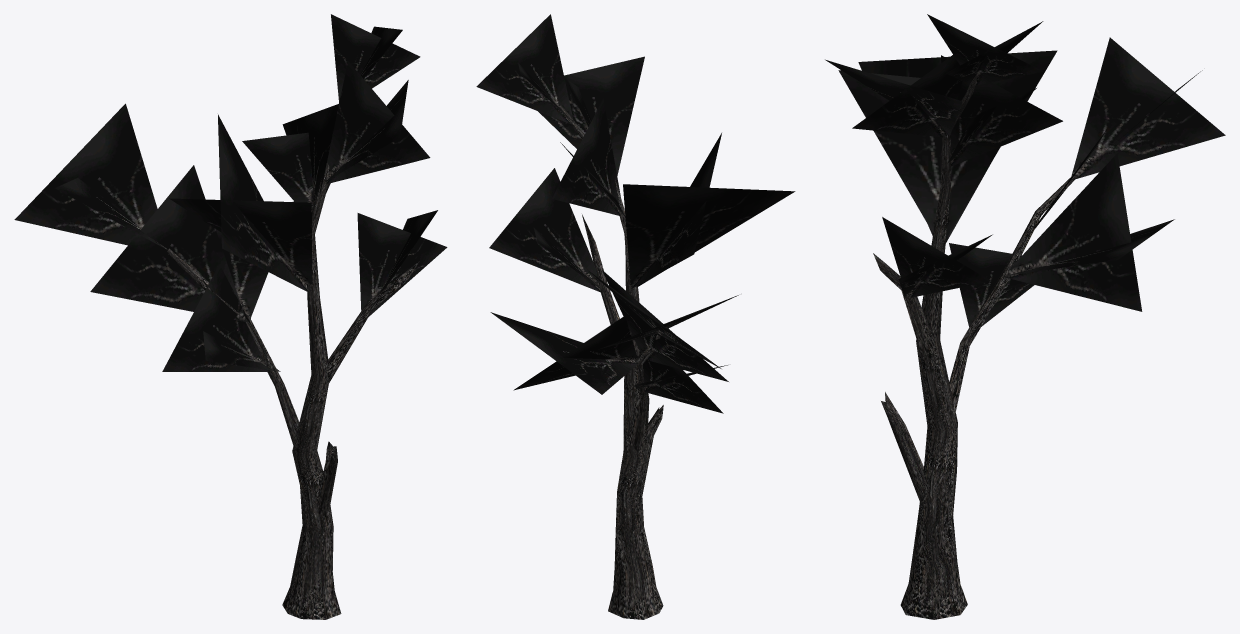
The model's file is tree909.glb.
3 views of the same model, side by side, from view 1: azimuth 30°, elevation 25°; view 2: azimuth 150°, elevation 25°; view 3: azimuth 270°, elevation 25° (orthographic). The views are drawn at different scales.
Visible parts, largest first — view 1: tree909; view 2: tree909; view 3: tree909.
Part boxes in pixels (left/top/right/bottom): tree909: left=14, top=14, right=447, bottom=619; tree909: left=476, top=14, right=795, bottom=619; tree909: left=825, top=14, right=1225, bottom=619.
Size of the model in its own units: 15.57 by 26.73 by 15.19.
2 materials, 2 textured.
